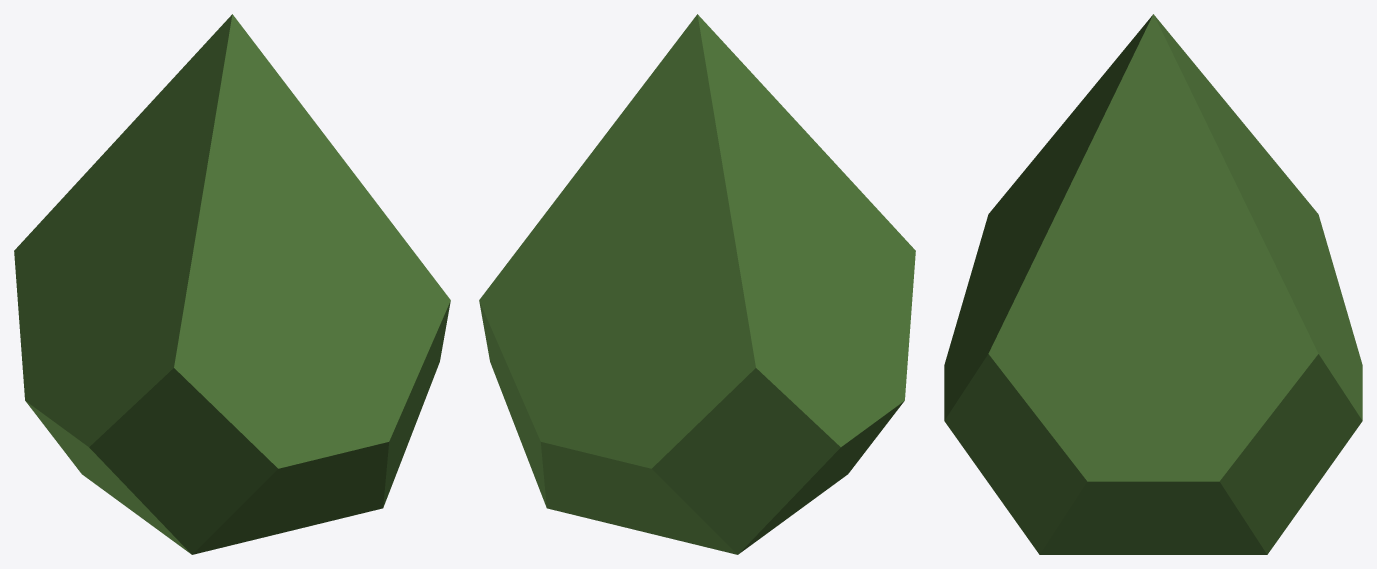
Rendered from grass_1.glb.
3 renders of one model, left to right at view 1: azimuth 30°, elevation 25°; view 2: azimuth 150°, elevation 25°; view 3: azimuth 270°, elevation 25°, orthographic. The views are drawn at different scales.
Parts seen in each view (by area): view 1: Cube; view 2: Cube; view 3: Cube.
Part boxes in pixels (bbox=[...]): Cube: bbox=[14, 14, 450, 554]; Cube: bbox=[479, 14, 915, 554]; Cube: bbox=[944, 14, 1362, 554].
Bounding box in the file's own units: 1 × 1.3 × 1.
